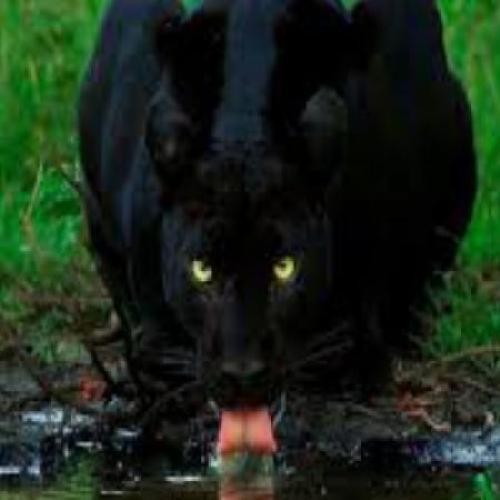panther-endangered: (77, 0, 481, 459)
